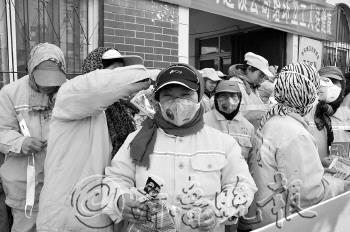NONE: (251, 69, 266, 87), (206, 80, 218, 92)
OK: (160, 88, 197, 125), (219, 92, 242, 115), (322, 78, 342, 102)
